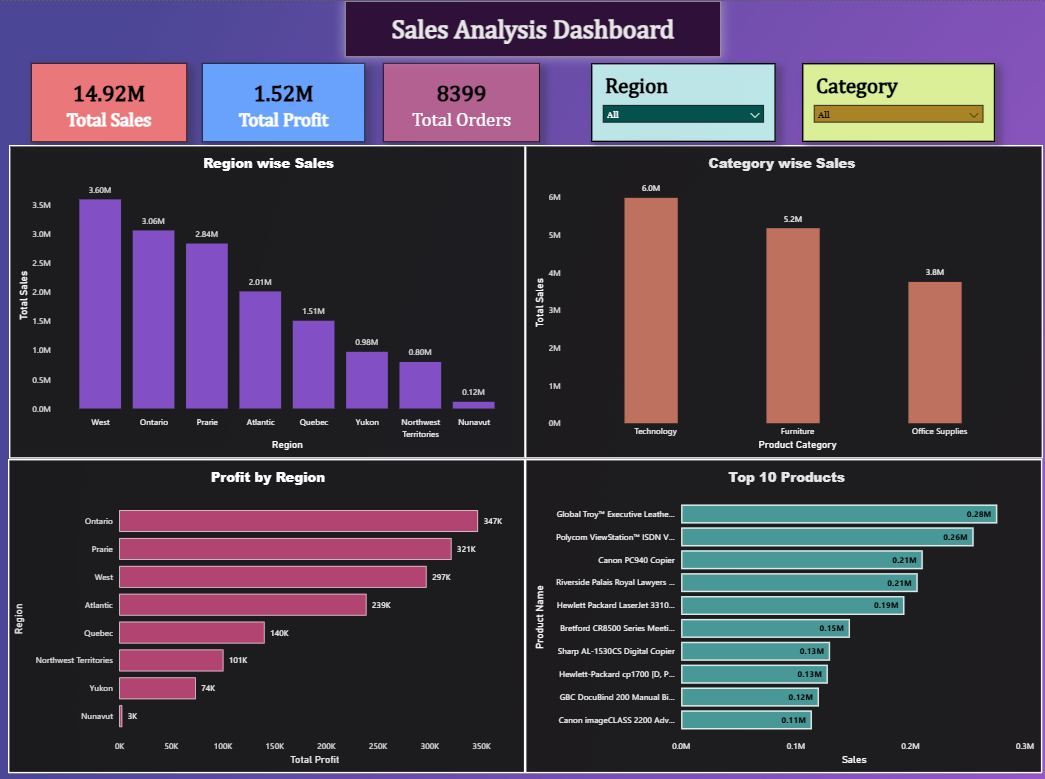

This screenshot's page, from the dashboard's own definition file:
{"tool":"powerbi","page":{"name":"Page 1","canvas":[1500,3000],"ordinal":0},"visuals":[{"type":"card","fields":{"Values":["sales_data.TotalSales"]},"box":[44.3,88.6,222.9,112.9],"z":0},{"type":"card","fields":{"Values":["sales_data.TotalProfit"]},"box":[288.6,88.6,232.9,112.9],"z":1000},{"type":"card","fields":{"Values":["sales_data.TotalOrder"]},"box":[547.1,88.6,224.3,112.9],"z":2000},{"type":"columnChart","title":"Region wise Sales","fields":{"Category":["sales_data.Region"],"Y":["sales_data.Total Sales"]},"box":[12.5,206.3,737.5,447.5],"z":3000},{"type":"columnChart","title":"Category wise Sales","fields":{"Category":["sales_data.Product Category"],"Y":["sales_data.Total Sales"]},"box":[750,206,740,447.5],"z":4000},{"type":"slicer","fields":{"Values":["sales_data.Region"]},"box":[844.3,88.6,264.3,112.9],"z":5000},{"type":"textbox","box":[492.9,0,537.1,80],"z":6000},{"type":"barChart","title":"Profit by Region","fields":{"Category":["sales_data.Region"],"Y":["sales_data.Total Profit"]},"box":[11.2,653.8,738.8,448.8],"z":7000},{"type":"barChart","title":"Top 10 Products","fields":{"Category":["sales_data.Product Name"],"Y":["sales_data.Total Sales"]},"box":[750,653.8,738.8,448.8],"z":8000},{"type":"slicer","fields":{"Values":["sales_data.Product Category"]},"box":[1145.7,88.6,275.7,112.9],"z":9000}]}

Visuals, with their boxes on the page's 1500x3000 design canvas (x1, y1, x2, y2). These are canvas units, not pixel positions in the 1045x779 screenshot, which may show the page scaled, cropped or inside an application window:
card - sales_data.TotalSales: Rect(44, 89, 267, 202)
card - sales_data.TotalProfit: Rect(289, 89, 522, 202)
card - sales_data.TotalOrder: Rect(547, 89, 771, 202)
"Region wise Sales" columnChart: Rect(12, 206, 750, 654)
"Category wise Sales" columnChart: Rect(750, 206, 1490, 654)
slicer - sales_data.Region: Rect(844, 89, 1109, 202)
textbox: Rect(493, 0, 1030, 80)
"Profit by Region" barChart: Rect(11, 654, 750, 1103)
"Top 10 Products" barChart: Rect(750, 654, 1489, 1103)
slicer - sales_data.Product Category: Rect(1146, 89, 1421, 202)
